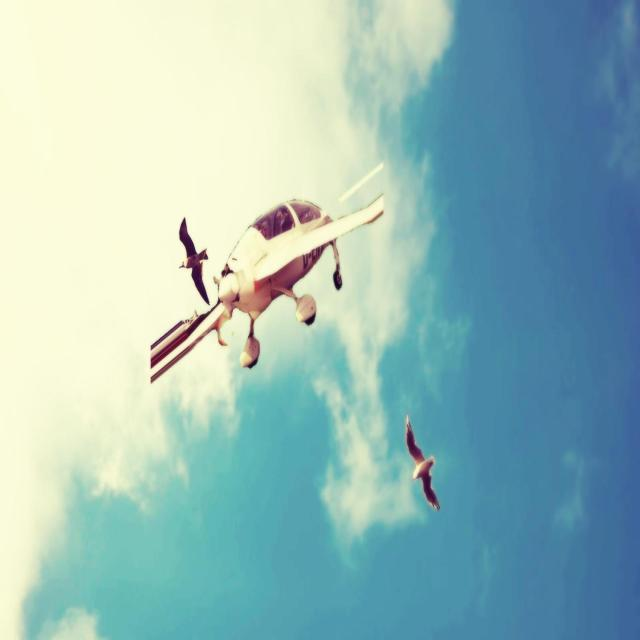airplane: (150, 161, 384, 384)
